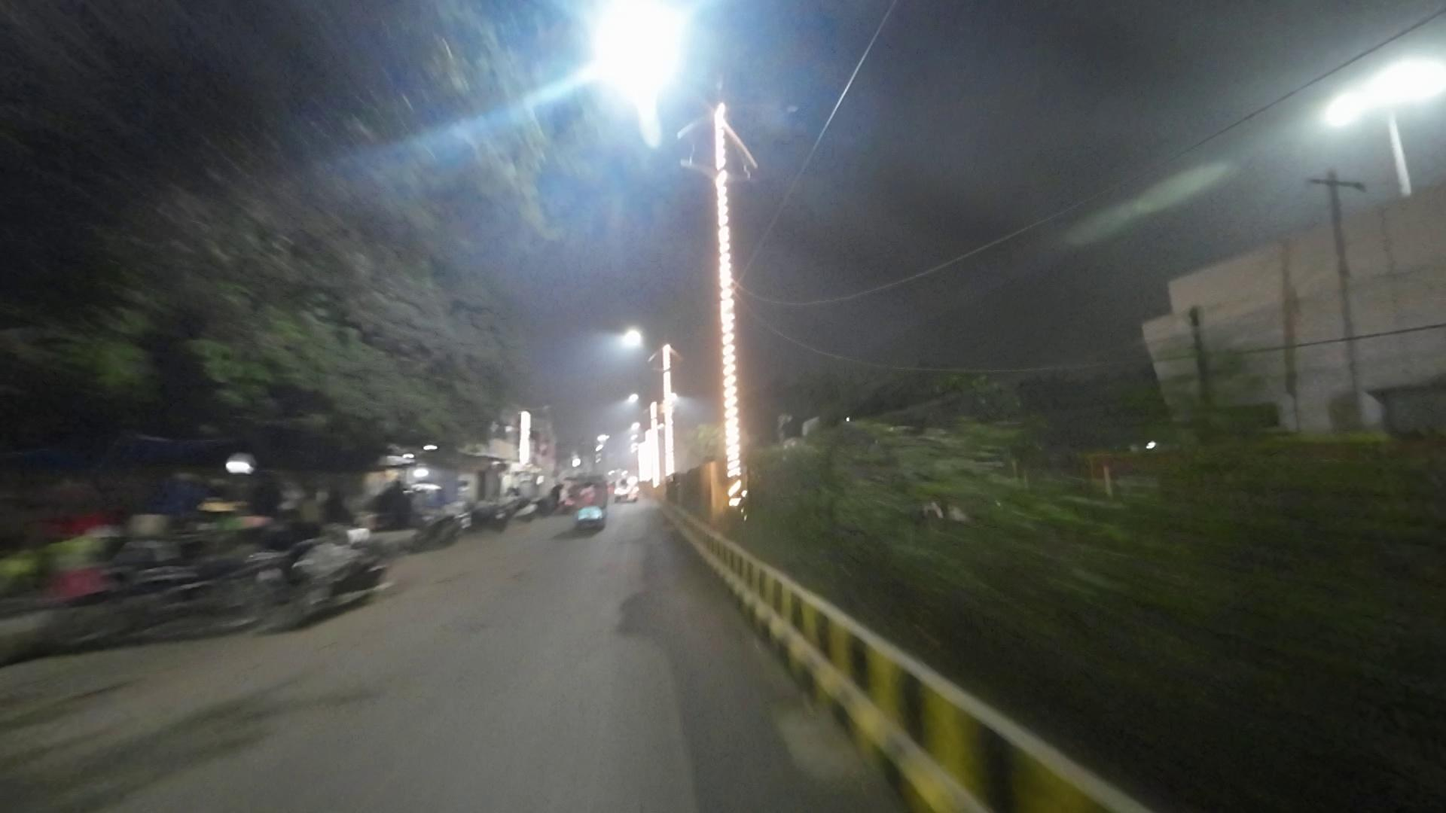streetlight: (735, 96, 804, 120)
